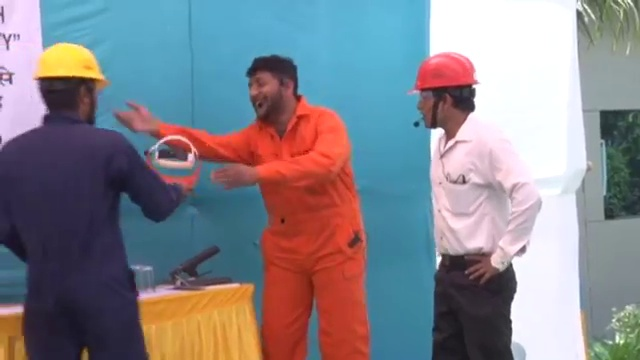helmet: (404, 49, 486, 96), (31, 40, 109, 89)
helmet_off: (241, 56, 300, 122)
helmet_on: (402, 49, 487, 138), (29, 39, 110, 130)
person: (115, 41, 370, 360), (1, 40, 180, 360), (401, 49, 542, 360)
